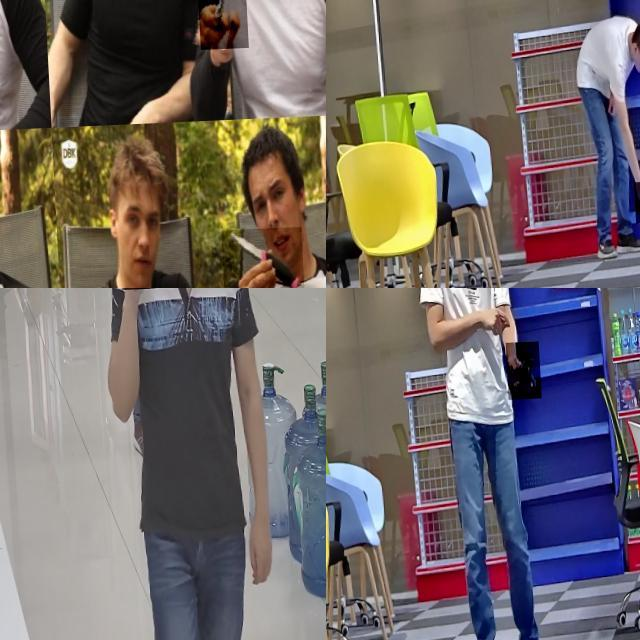-: (216, 232, 299, 288), (192, 0, 246, 68), (0, 240, 43, 288), (0, 0, 21, 67)
gun-knife-thesis - v11 Yolov5 augmented: (113, 288, 152, 357), (504, 346, 538, 404), (629, 184, 640, 227)
